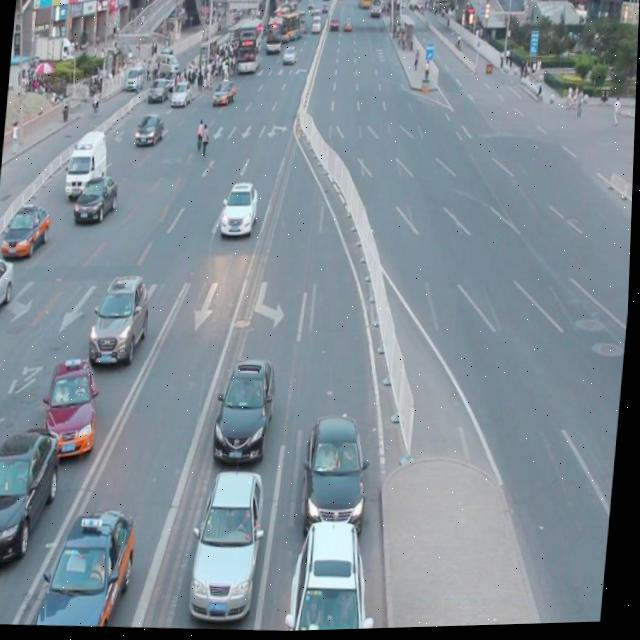car: (35, 501, 142, 630), (191, 466, 272, 626), (291, 517, 382, 633), (0, 420, 65, 567), (302, 412, 376, 540), (214, 356, 281, 466), (88, 270, 155, 369), (45, 354, 105, 460), (3, 201, 54, 263), (221, 181, 262, 240), (74, 174, 120, 226), (0, 253, 18, 330), (136, 113, 167, 150), (0, 560, 3, 624)
truck: (66, 130, 112, 199)
